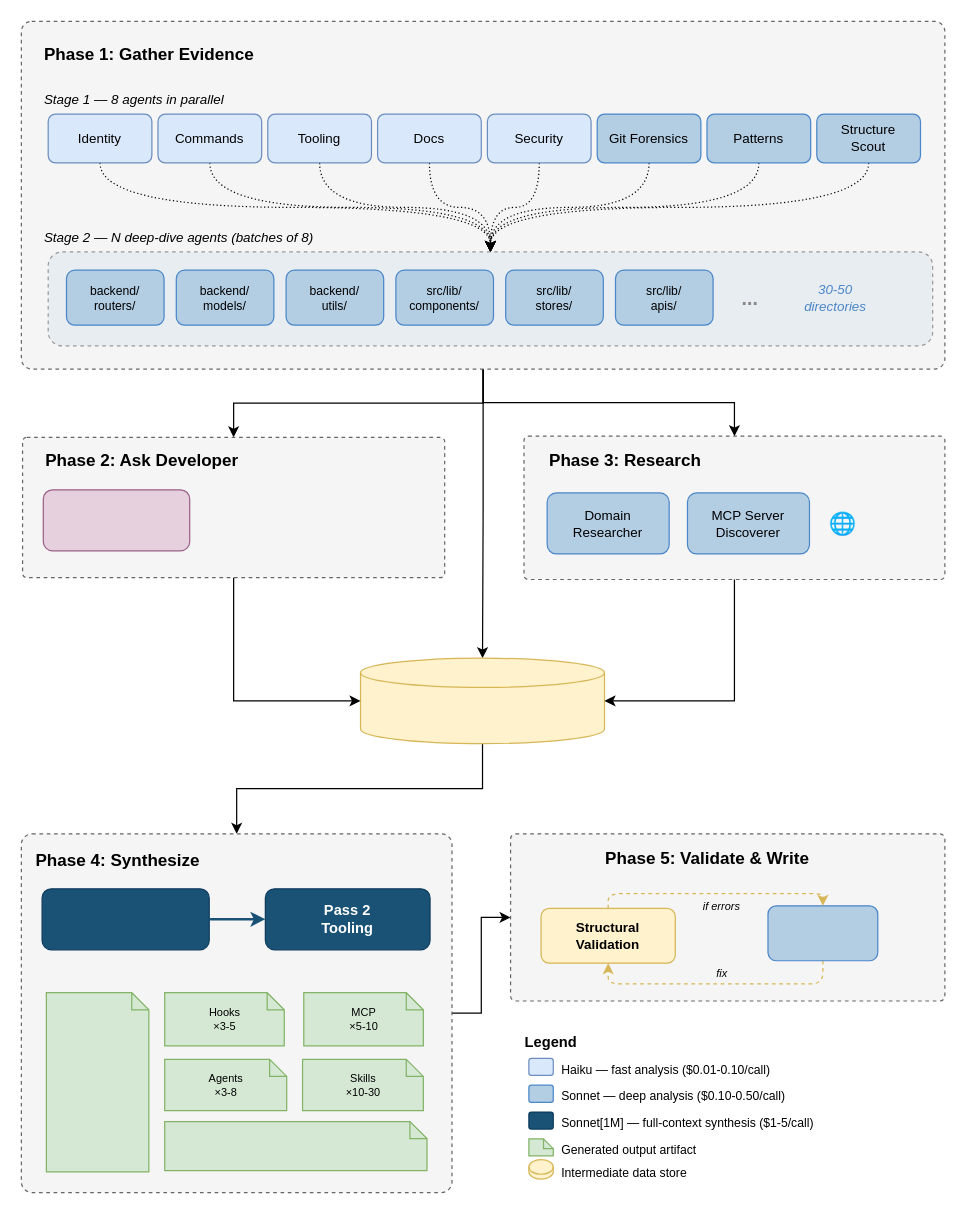
The diagram is 966 pixels wide and 1214 high, and some of its shapes have lost their labels. The shapes that lost their labels are listed below. From the top down, each one's box as (x1, y1, x2, y2) in pixels, then its label:
(42, 489, 190, 551): 6 interactive questions
(359, 657, 605, 744): Findings Store
(41, 888, 209, 950): Pass 1 Documentation
(767, 905, 878, 961): Revision Agent
(45, 991, 149, 1172): CLAUDE.md
(163, 1120, 427, 1171): Sub-dir CLAUDE.md ×5-15
